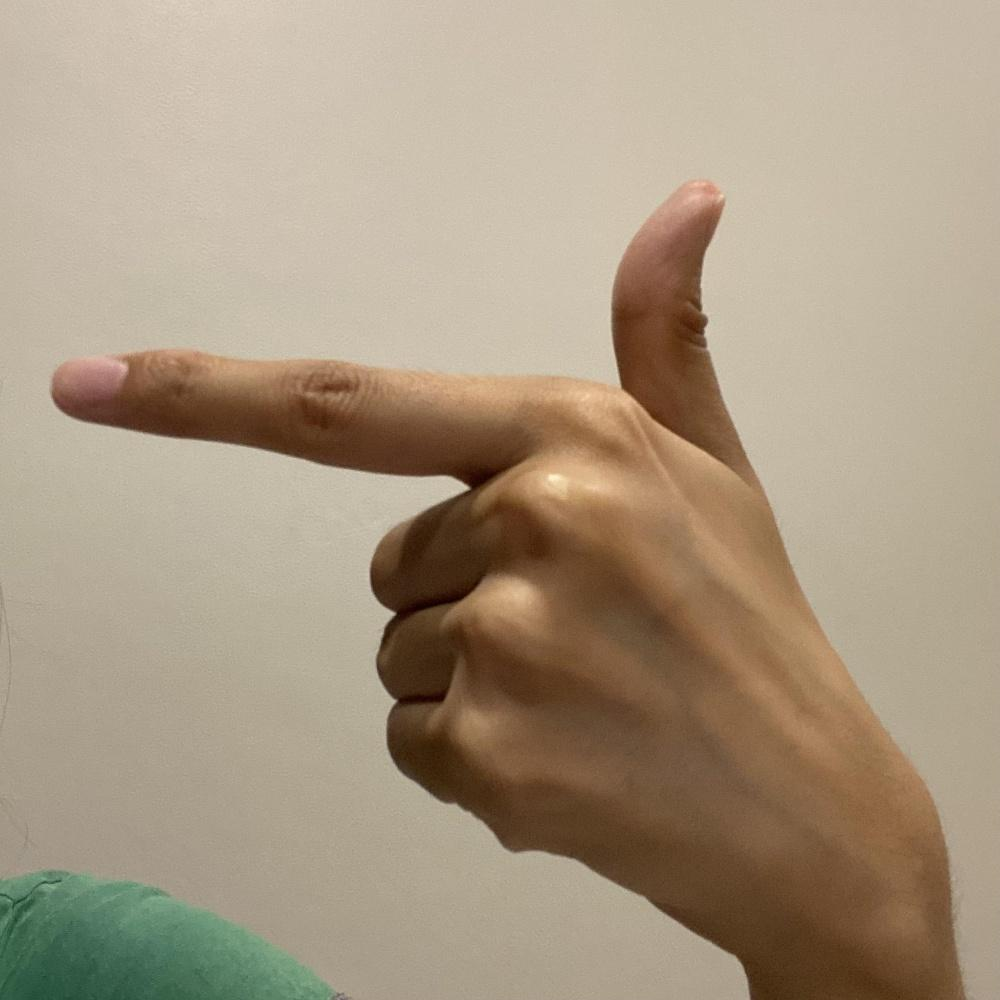g: (48, 173, 923, 950)
